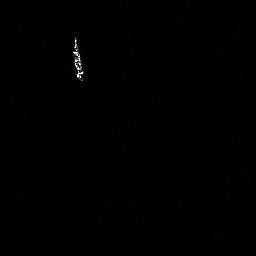ship: (67, 34, 90, 84)
